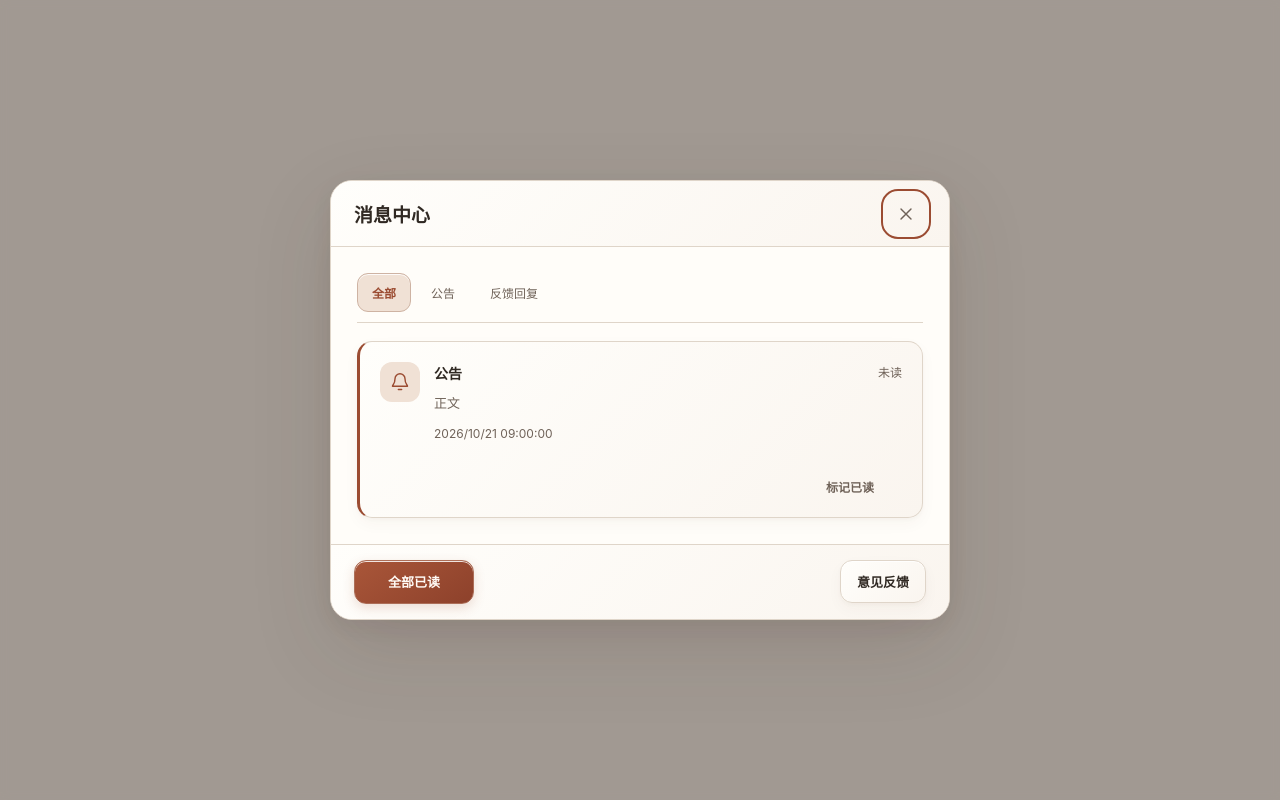
Test case: clears a failed single read after all-read succeeds in messages
Click the button "标记已读". click: {"x": 850, "y": 487}
box: x1=790 y1=465 x2=910 y2=509
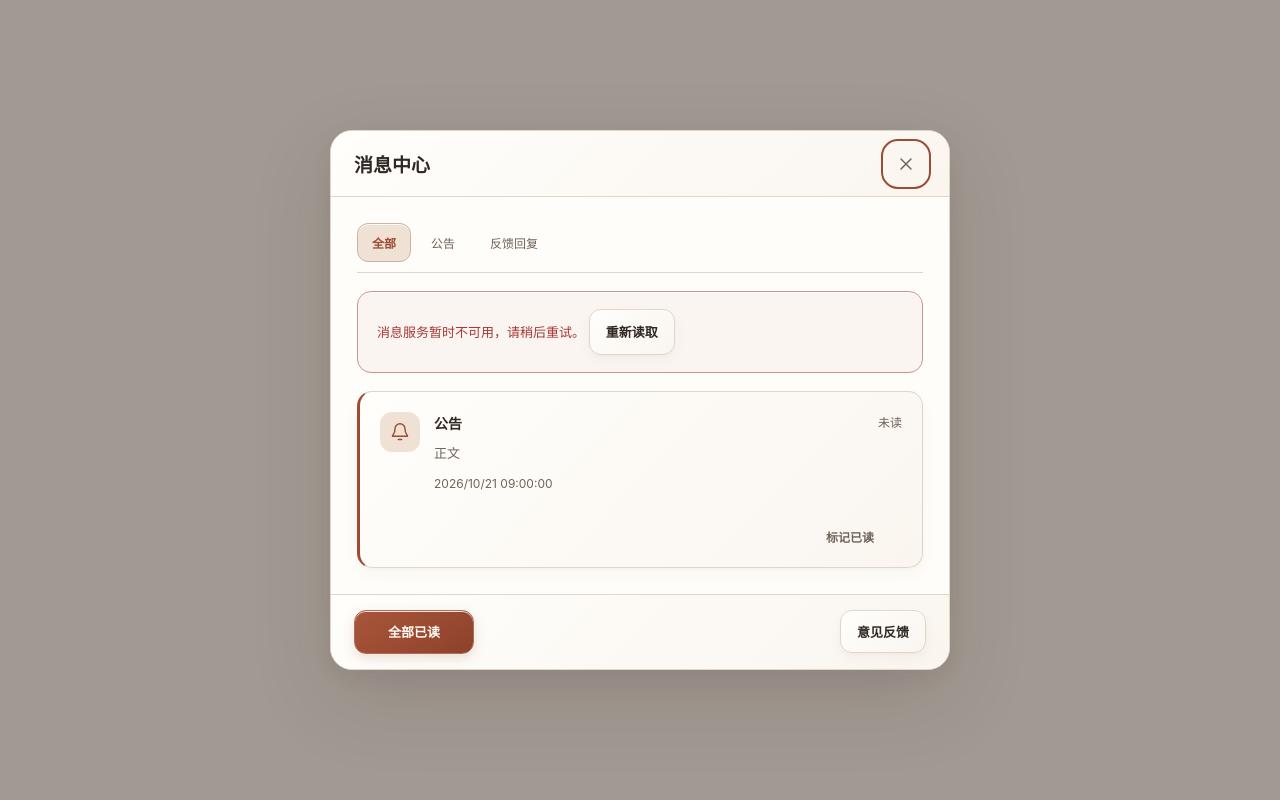
Check: the message "消息服务暂时不可用，请稍后重试。 重新读取" is shown, box x1=357 y1=291 x2=923 y2=373
Click the button "全部已读". click: {"x": 414, "y": 632}
box: x1=354 y1=610 x2=474 y2=654
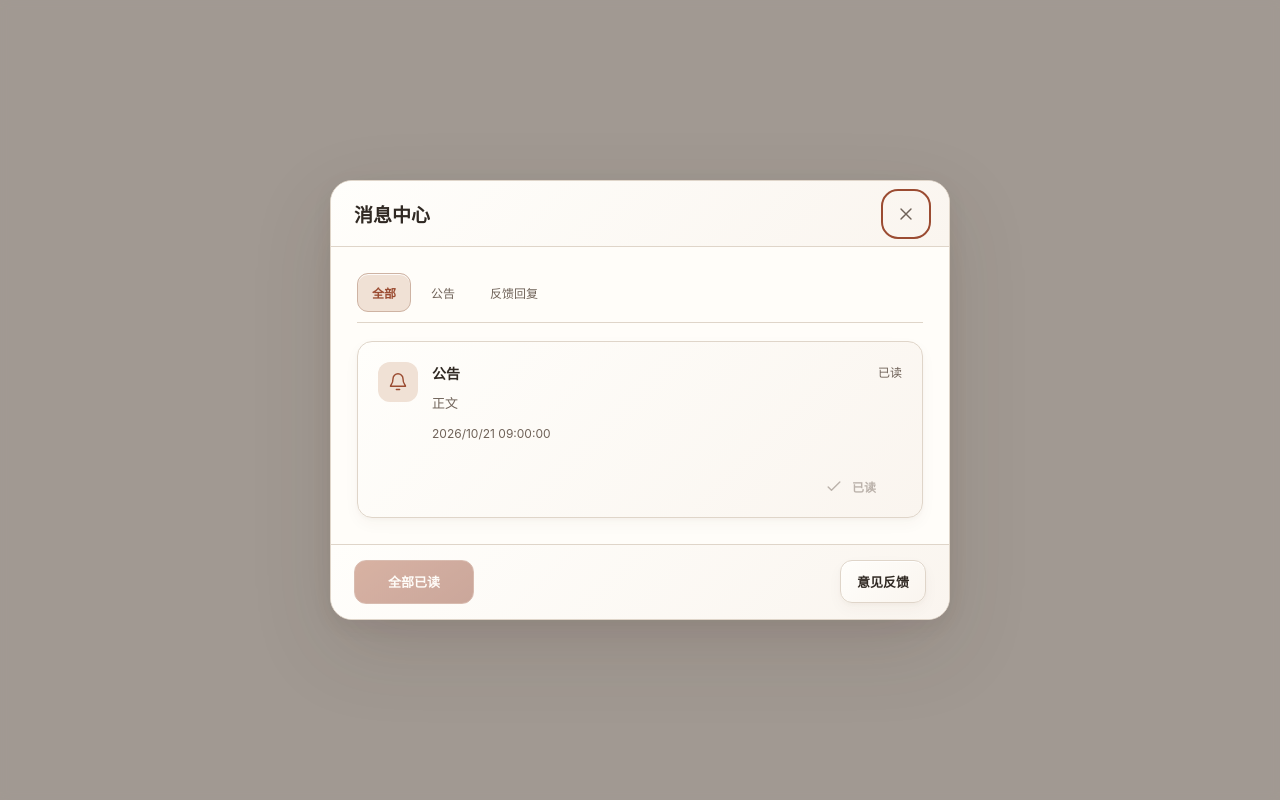
Check: the button "已读" is disabled, box x1=790 y1=465 x2=910 y2=509
Check: the message "消息服务暂时不可用，请稍后重试。 重新读取" is gone
